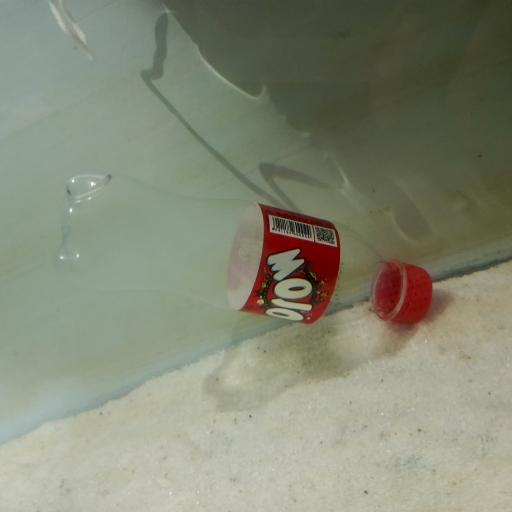bottle_cap: (377, 257, 433, 326)
plastic_bottle: (60, 164, 439, 365)
